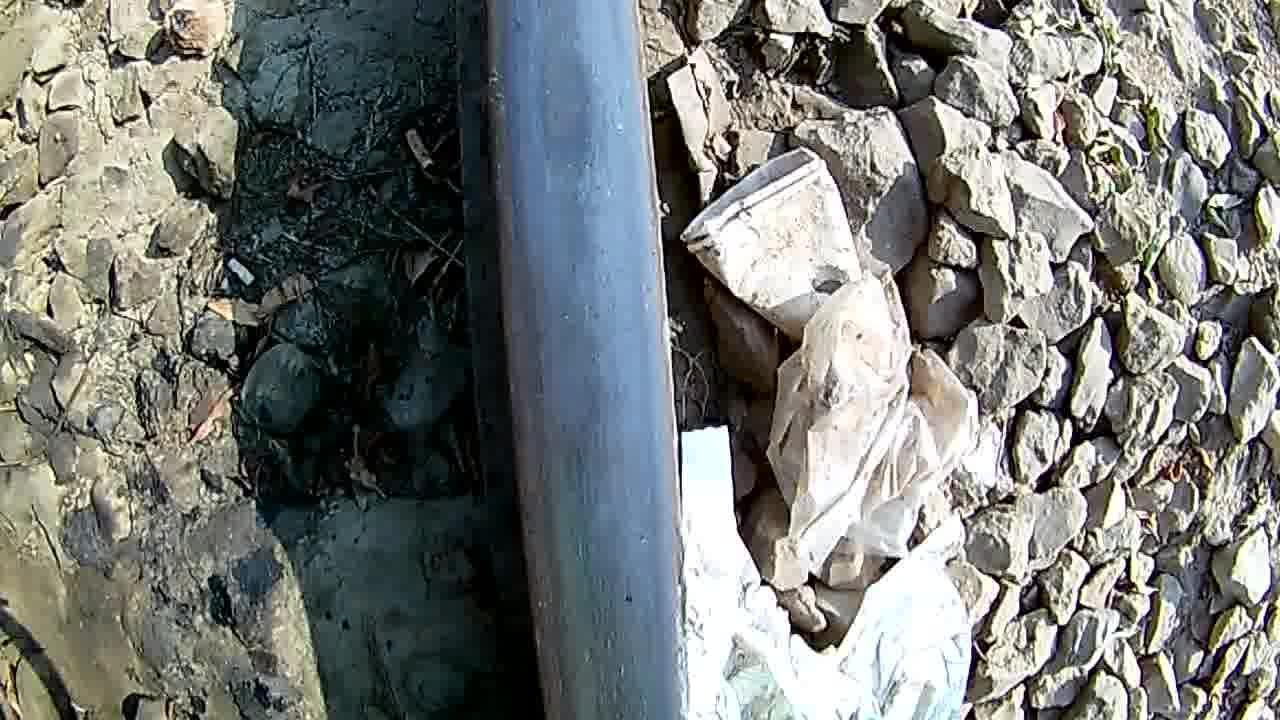crack: (498, 0, 684, 720)
